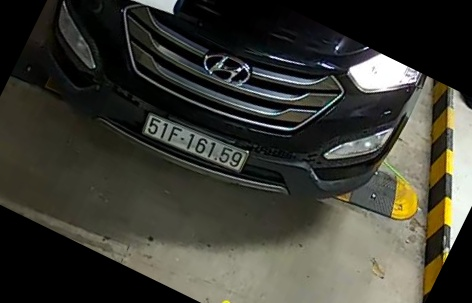plate: (142, 110, 252, 180)
